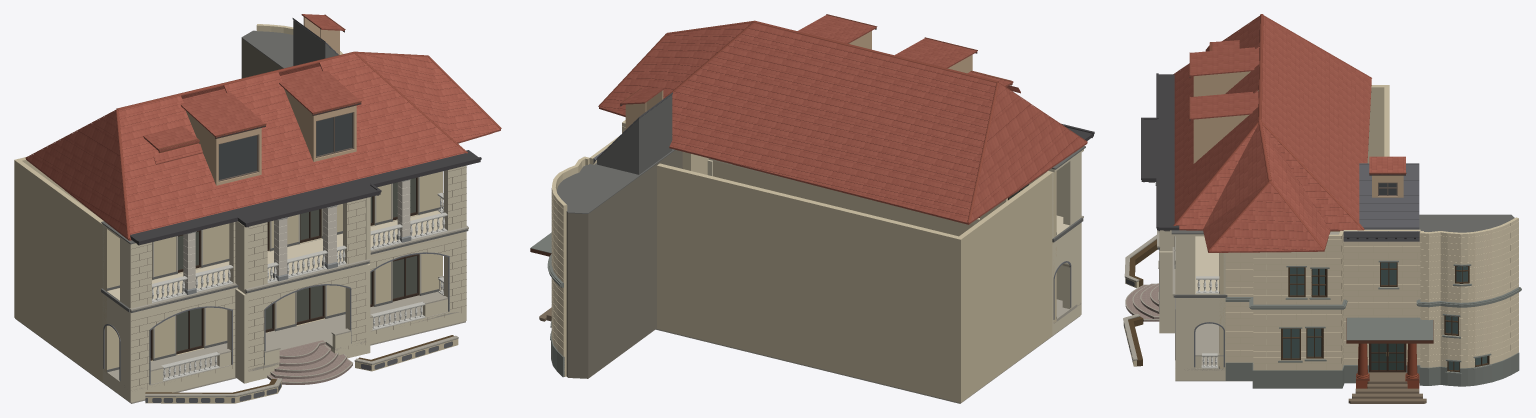
File: changning-zhu-xueren-residence-yuyuan-garden-veranda-web.glb
3 views of the same model, side by side, from view 1: azimuth 30°, elevation 25°; view 2: azimuth 150°, elevation 25°; view 3: azimuth 270°, elevation 25° (orthographic). The views are drawn at different scales.
Visible parts, largest first — view 1: 朱学仁住宅南园廊与东入口; view 2: 朱学仁住宅南园廊与东入口; view 3: 朱学仁住宅南园廊与东入口.
Part boxes in pixels (bbox=[...]): 朱学仁住宅南园廊与东入口: bbox=[14, 14, 501, 403]; 朱学仁住宅南园廊与东入口: bbox=[530, 14, 1094, 403]; 朱学仁住宅南园廊与东入口: bbox=[1123, 14, 1521, 403].
Bounding box in the file's own units: 22.2 × 13.52 × 21.05.
38 materials, 2 textured.
